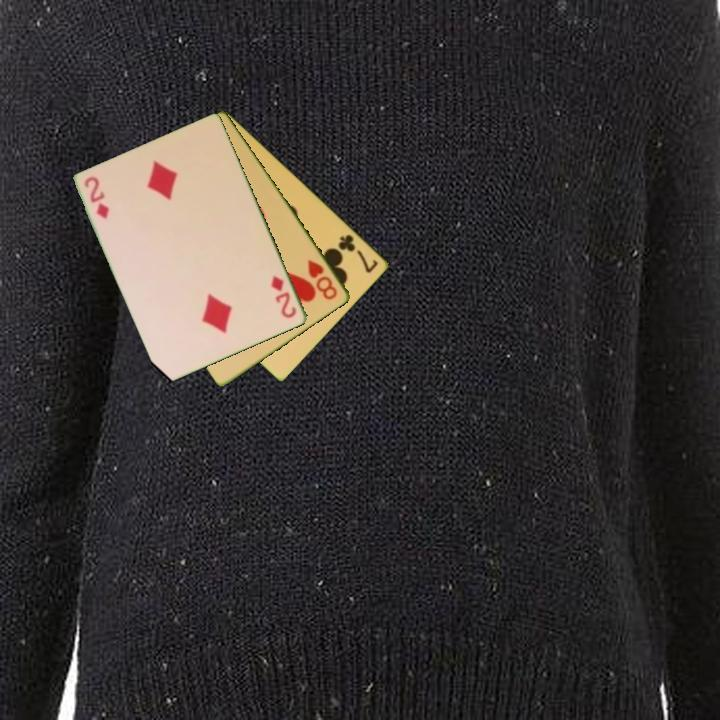2d: (268, 272, 300, 321), (81, 173, 112, 222)
7c: (335, 231, 381, 276)
8h: (304, 256, 341, 303)
